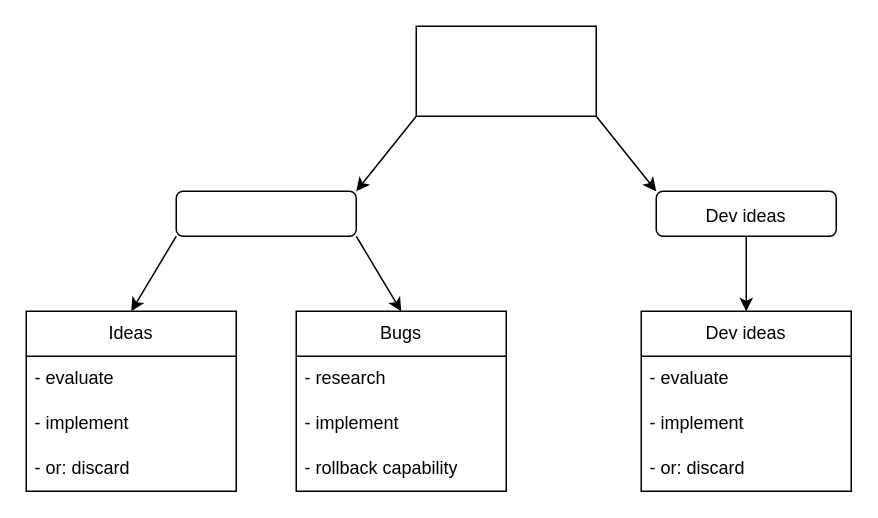
Some shapes in this 878 by 518 pixel diagram are drawn without their labels. Here are the shapes that lost their labels. From the top down, the centre of each, then its label:
the point at 505,70: Modifiability
the point at 265,213: User Feedback
